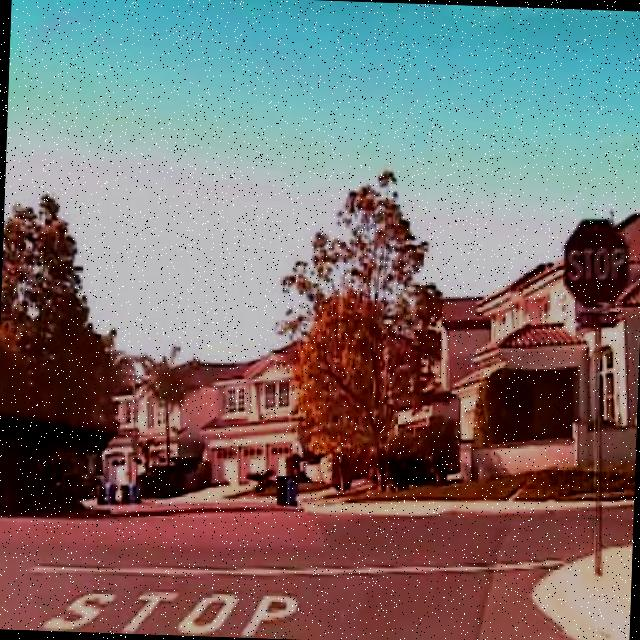Stop: (560, 216, 632, 312)
